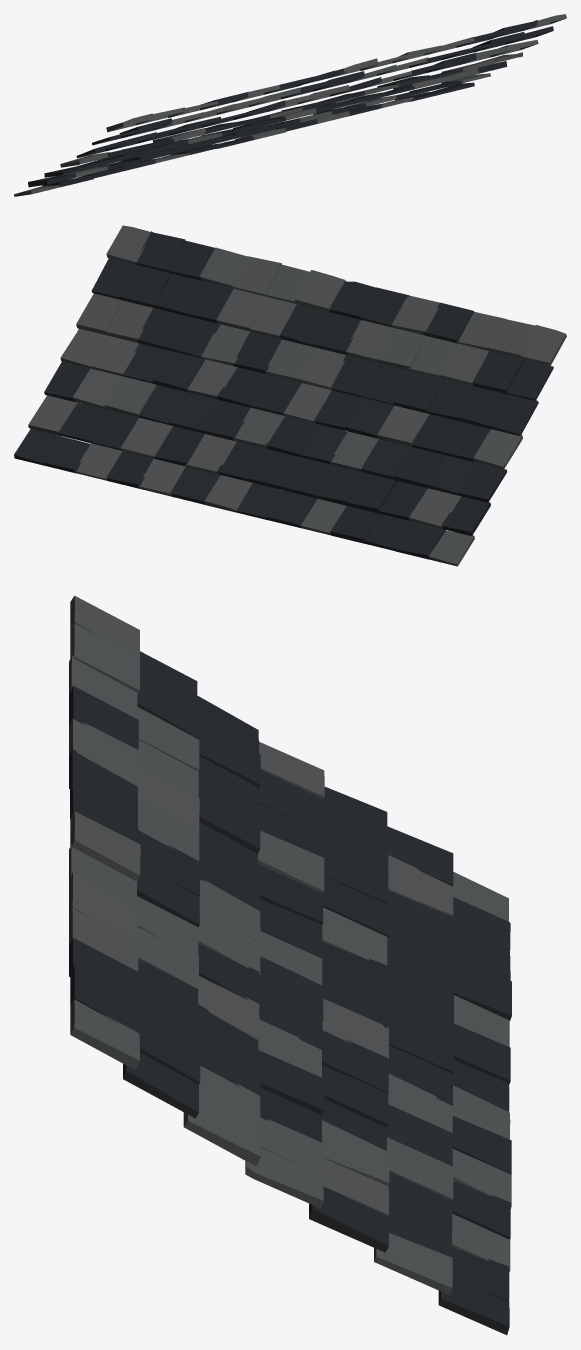
Rendered from RoofTiles1.fbx.
3 views of the same model, one above another, from view 1: azimuth 30°, elevation 25°; view 2: azimuth 150°, elevation 25°; view 3: azimuth 270°, elevation 25° (orthographic). The views are drawn at different scales.
Parts seen in each view (by area): view 1: RoofTiles1; view 2: RoofTiles1; view 3: RoofTiles1.
Part boxes in pixels (x1=…): RoofTiles1: x1=14, y1=14, x2=566, y2=196; RoofTiles1: x1=14, y1=225, x2=566, y2=566; RoofTiles1: x1=69, y1=595, x2=511, y2=1335.
Bounding box in the file's own units: 629 × 272 × 211.
